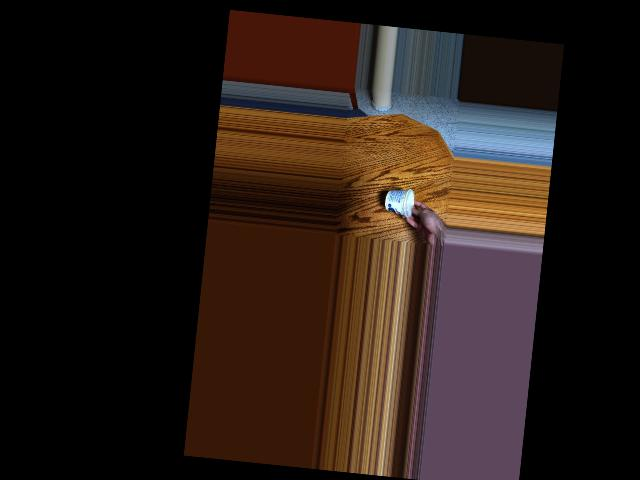cotage: (388, 184, 420, 216)
